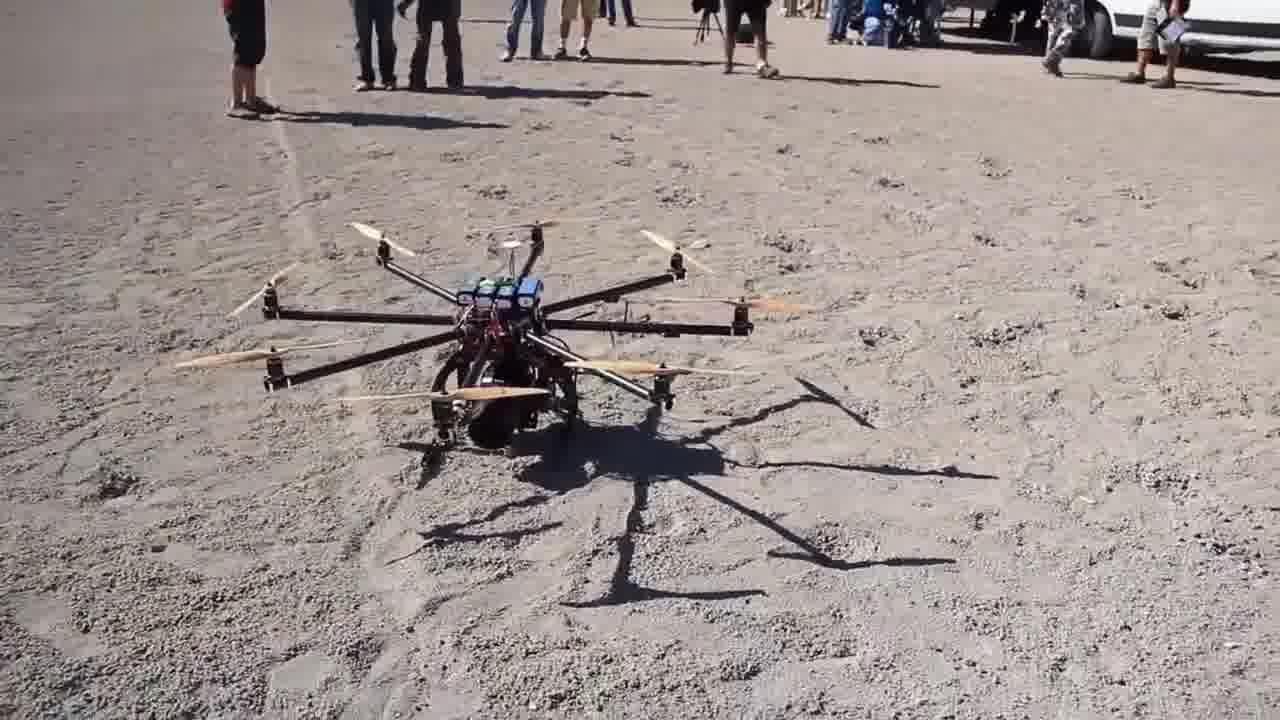drone: (202, 202, 784, 474)
